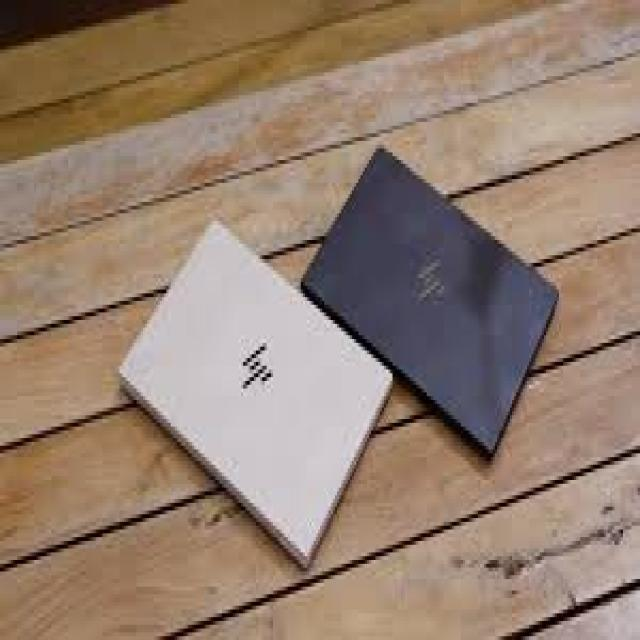laptop: (118, 213, 392, 568), (299, 145, 561, 468)
